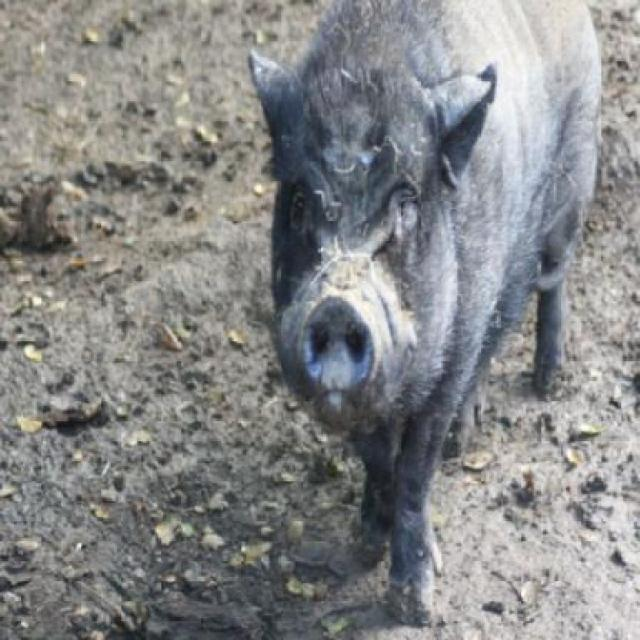pig: (248, 0, 603, 628)
